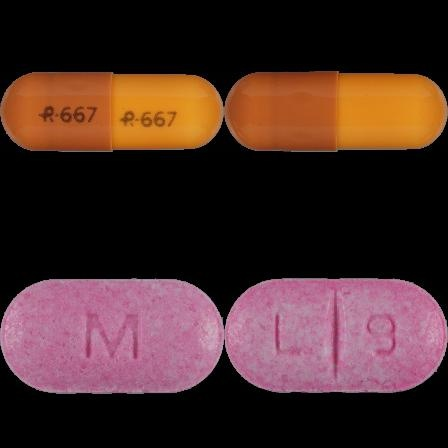43063-223: (0, 0, 224, 224)
